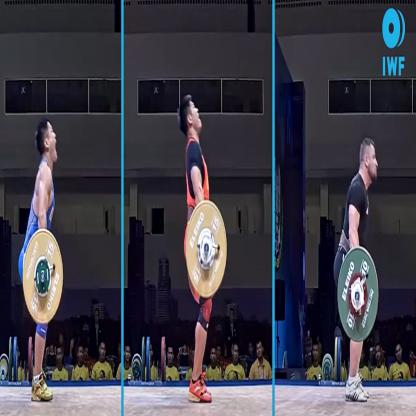Barbell: (178, 185, 236, 302), (334, 243, 384, 347), (18, 226, 66, 327)
